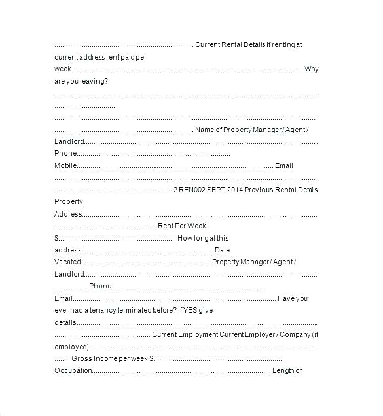textline: (54, 169, 322, 184), (72, 60, 302, 76), (82, 205, 321, 220), (54, 86, 317, 99), (76, 315, 318, 329), (52, 29, 194, 51), (88, 338, 321, 351), (85, 268, 317, 281), (52, 113, 323, 124), (84, 135, 321, 147), (77, 158, 275, 172), (75, 145, 235, 160), (92, 363, 273, 376), (74, 292, 277, 303), (52, 122, 197, 137), (80, 243, 215, 256), (113, 281, 270, 292), (81, 256, 211, 268), (154, 352, 286, 363), (58, 231, 177, 243), (55, 325, 151, 339), (54, 218, 156, 230), (51, 184, 173, 194), (54, 99, 120, 114), (55, 279, 88, 291), (55, 353, 71, 364)
